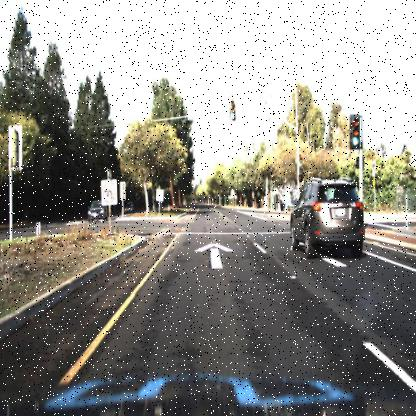car: (289, 177, 366, 261), (83, 197, 110, 222), (124, 199, 138, 217), (124, 201, 136, 217)
trafficLight-Green: (228, 96, 238, 121), (229, 98, 236, 123), (297, 152, 303, 170)
